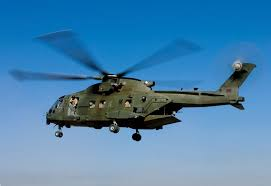Merlin: (36, 57, 258, 140)
